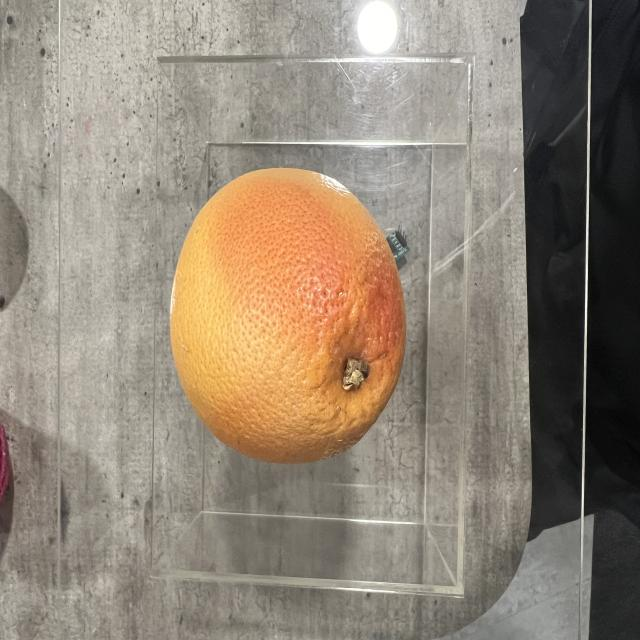grapefruit: (172, 166, 405, 468)
